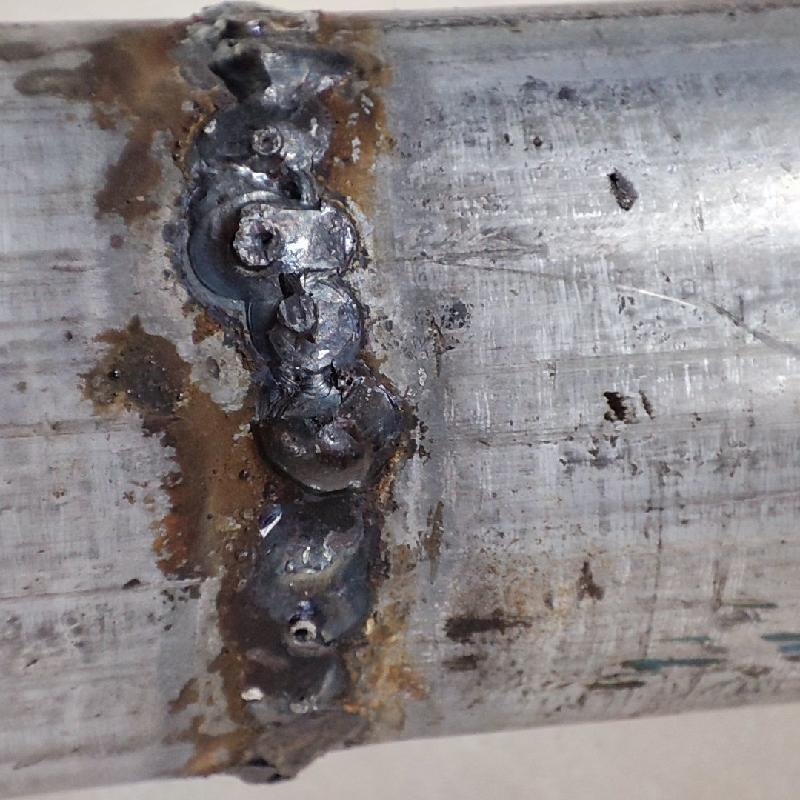Surface_pores: (237, 205, 285, 260), (284, 619, 325, 650), (250, 120, 282, 155)
wrong_size: (180, 0, 383, 707)
